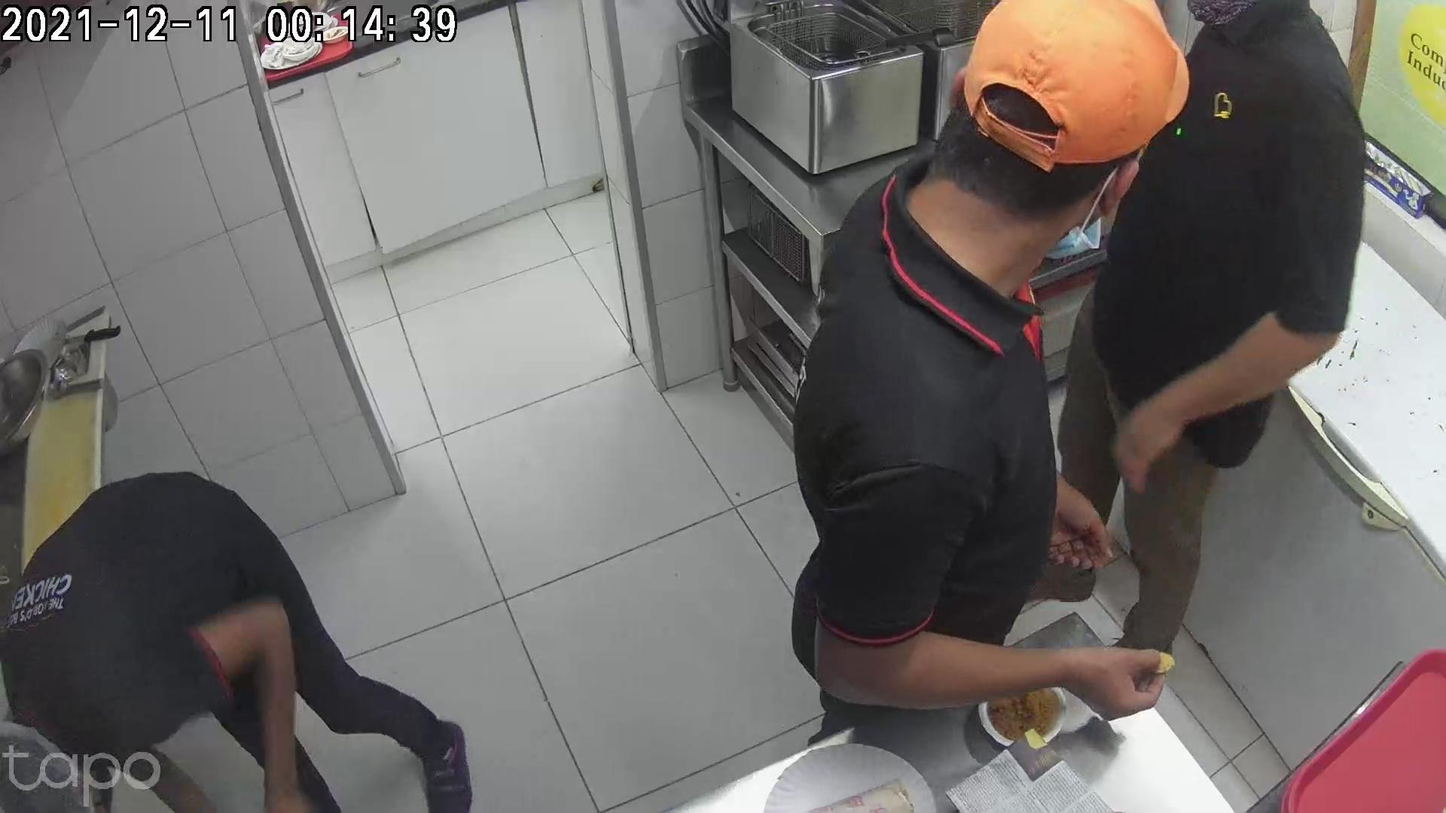no_gloves: (305, 579, 424, 660)
